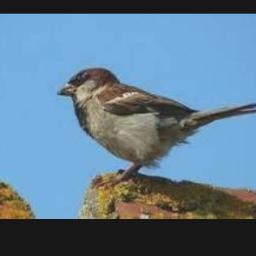Sparrow: (58, 67, 256, 188)
